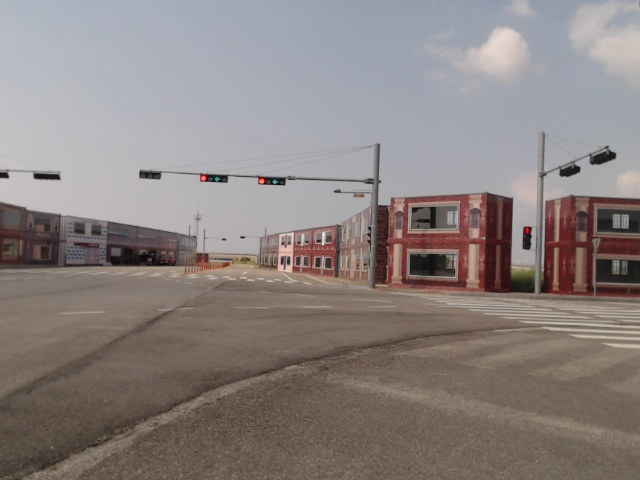left_green_4: (201, 174, 227, 183), (258, 178, 284, 186)
